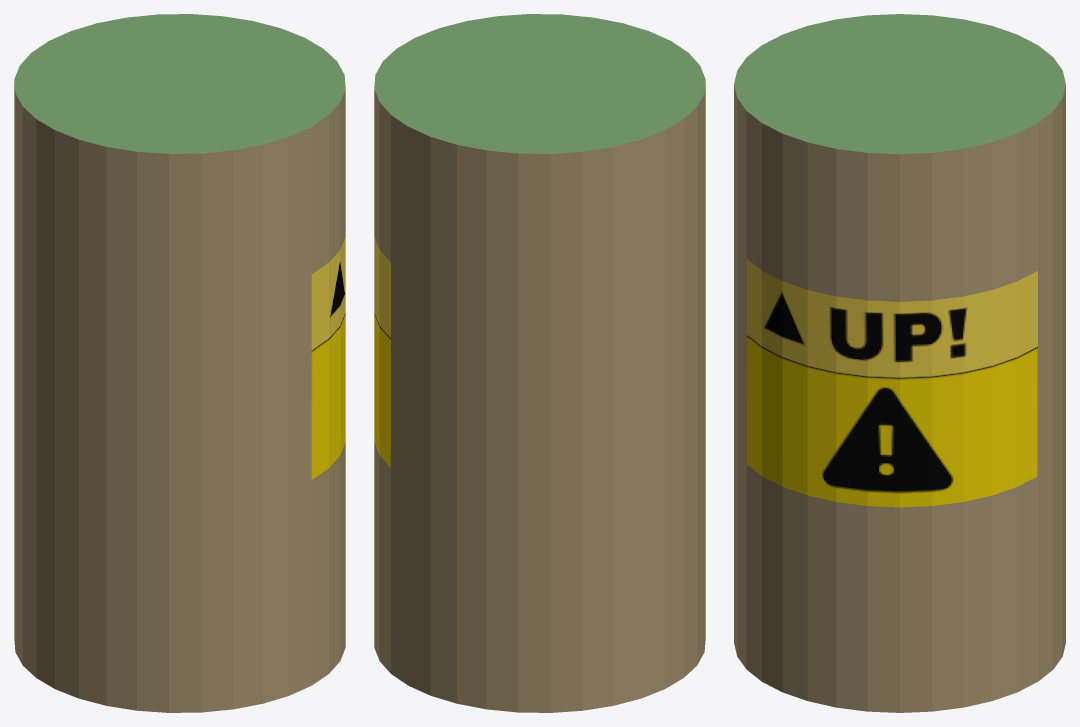
File: Canister_3inch_Example.fbx
3 renders of one model, left to right at view 1: azimuth 30°, elevation 25°; view 2: azimuth 150°, elevation 25°; view 3: azimuth 270°, elevation 25°, orthographic.
Parts seen in each view (by area): view 1: Cylinder; view 2: Cylinder; view 3: Cylinder.
Part boxes in pixels (x1,y1,x2,y2): Cylinder: (14,14,345,712); Cylinder: (374,14,705,712); Cylinder: (734,14,1065,712).
Size of the model in its own units: 14 by 26 by 14.
